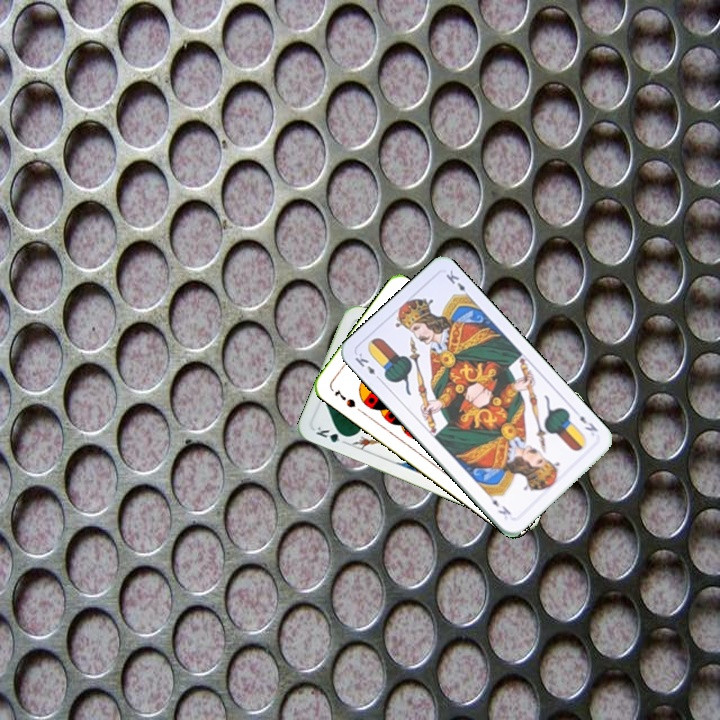EK: (351, 349, 384, 383), (576, 411, 601, 434)
GK: (312, 422, 351, 447)
S7: (330, 385, 358, 410)
